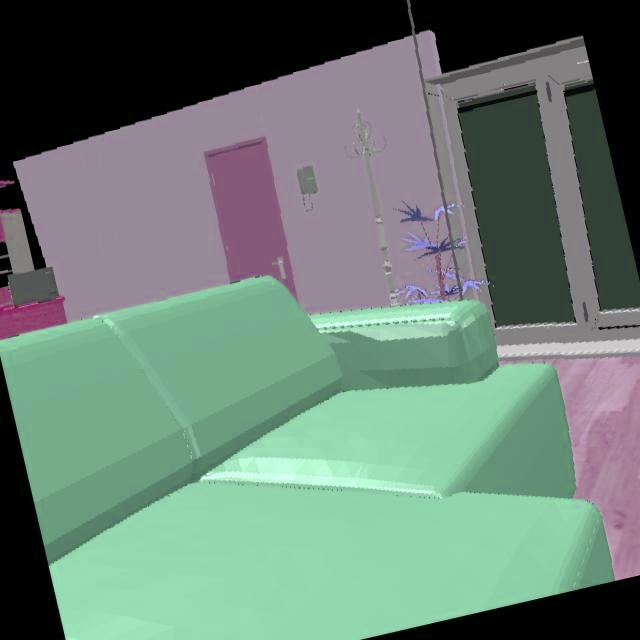cabinet: (0, 208, 33, 276)
microwave: (7, 267, 59, 306)
sofa: (0, 276, 612, 640)
